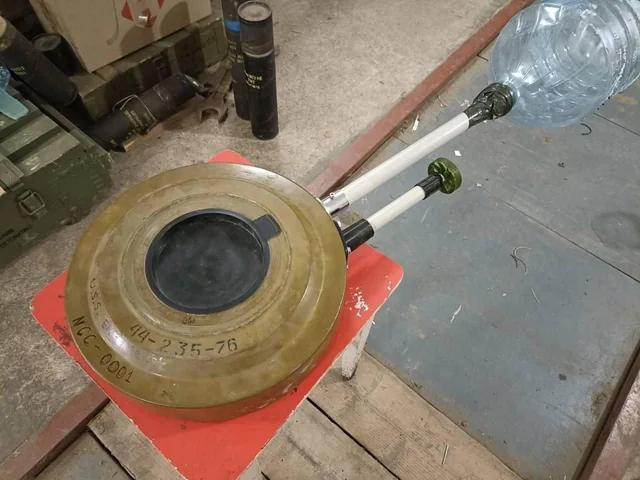TM 62: (62, 163, 347, 425)
